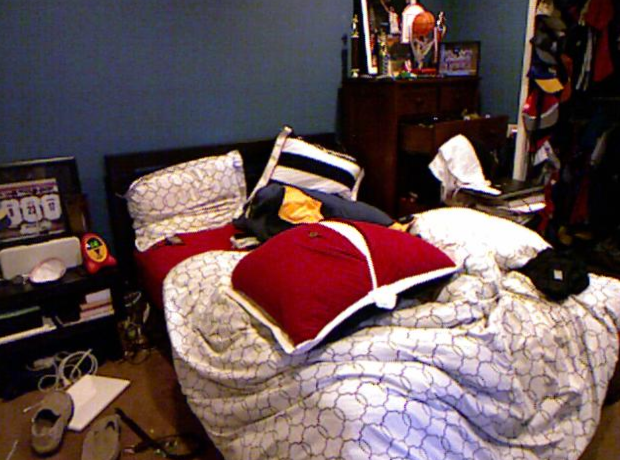cabinet: (344, 72, 435, 196)
cabinetDoor: (406, 114, 506, 151), (444, 87, 479, 111), (402, 90, 436, 113)
